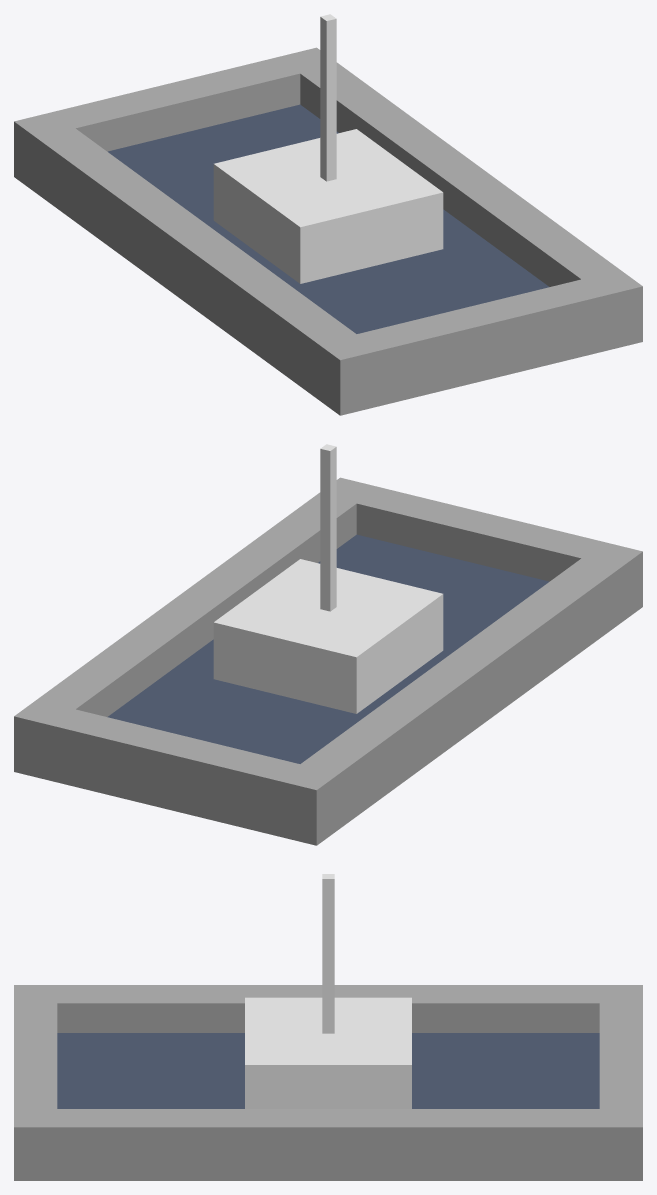
Rendered from building_1x2_6_r.glb.
3 views of the same model, one above another, from view 1: azimuth 30°, elevation 25°; view 2: azimuth 150°, elevation 25°; view 3: azimuth 270°, elevation 25° (orthographic). The views are drawn at different scales.
Visible parts, largest first — view 1: Cube.002; view 2: Cube.002; view 3: Cube.002.
Part boxes in pixels (x1=…): Cube.002: x1=14, y1=14, x2=642, y2=415; Cube.002: x1=14, y1=444, x2=642, y2=845; Cube.002: x1=14, y1=874, x2=642, y2=1180.
Bounding box in the file's own units: 2.11 × 1.61 × 3.93.
